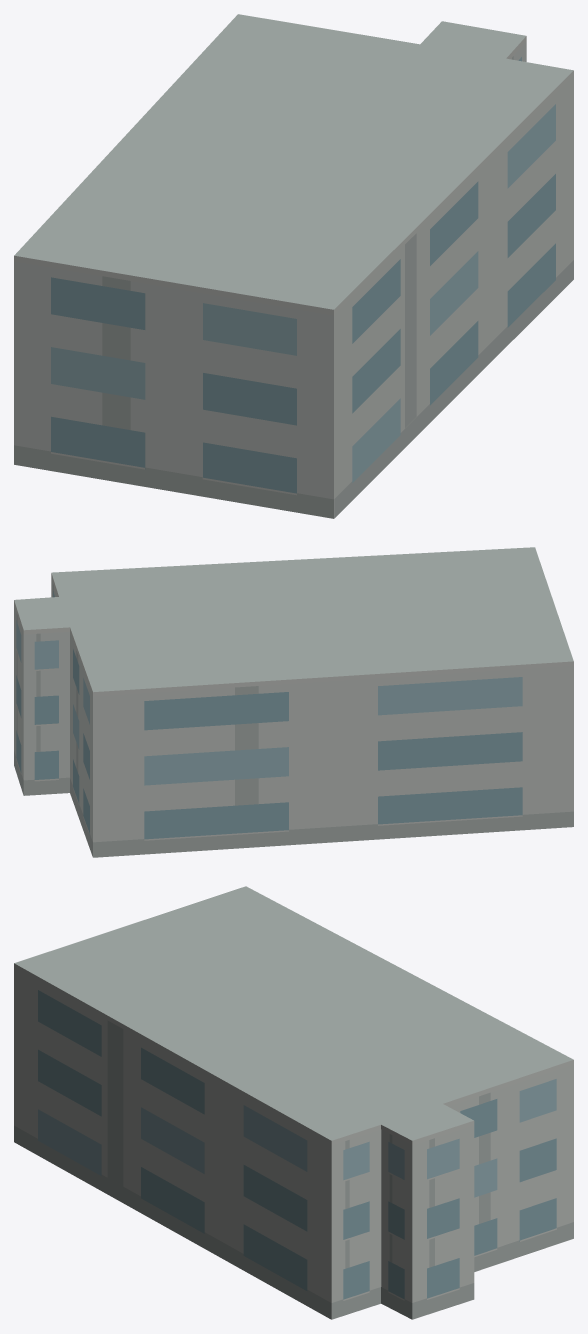
Rendered from survey-upis-32571805.glb.
The picture shows the model from 3 angles, top to bottom: view 1: azimuth 30°, elevation 25°; view 2: azimuth 150°, elevation 25°; view 3: azimuth 270°, elevation 25°; orthographic projection. The views are drawn at different scales.
Visible parts, largest first — view 1: survey-upis-32571805.tmp; view 2: survey-upis-32571805.tmp; view 3: survey-upis-32571805.tmp.
Boxes of the visible parts, bbox=[...] form: survey-upis-32571805.tmp: bbox=[14, 14, 573, 518]; survey-upis-32571805.tmp: bbox=[14, 547, 573, 857]; survey-upis-32571805.tmp: bbox=[14, 886, 573, 1319].
Bounding box in the file's own units: 27.94 × 9.15 × 25.96.
